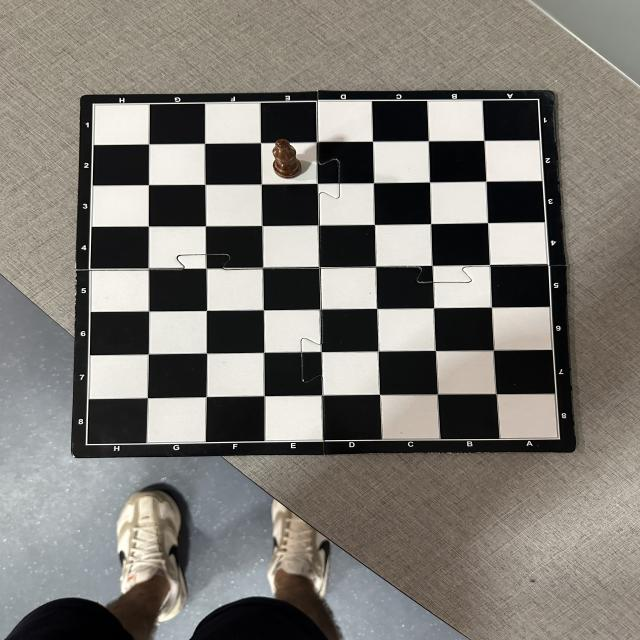Black-Bishop: (273, 139, 302, 179)
